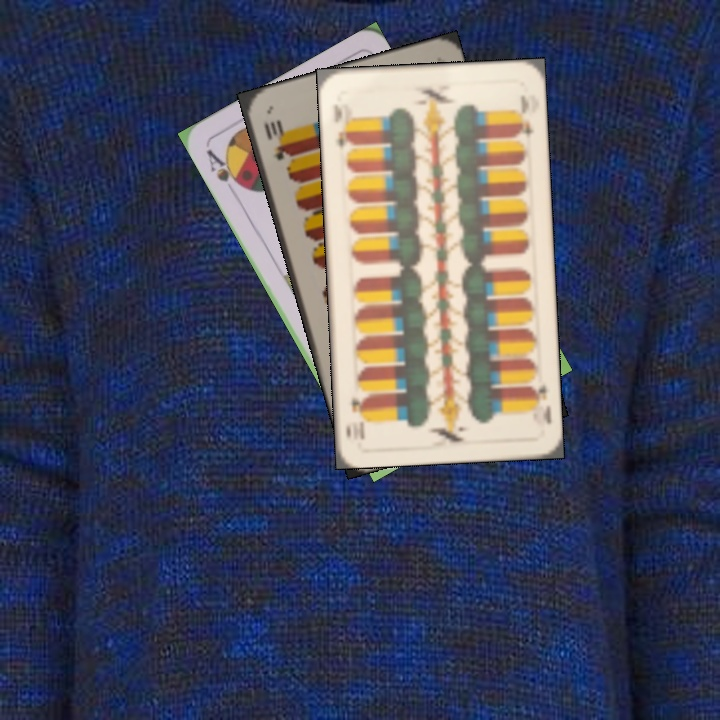E10: (260, 117, 290, 163), (525, 380, 554, 426), (330, 100, 354, 150)
SA: (202, 145, 247, 192)
